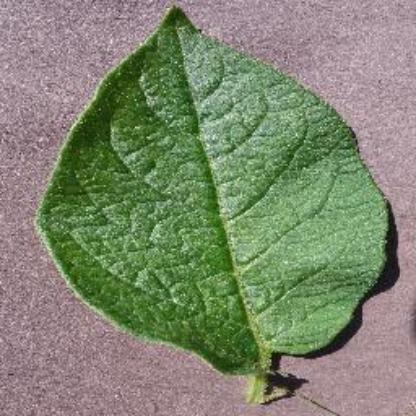Healthy-plant: (28, 7, 397, 412)
